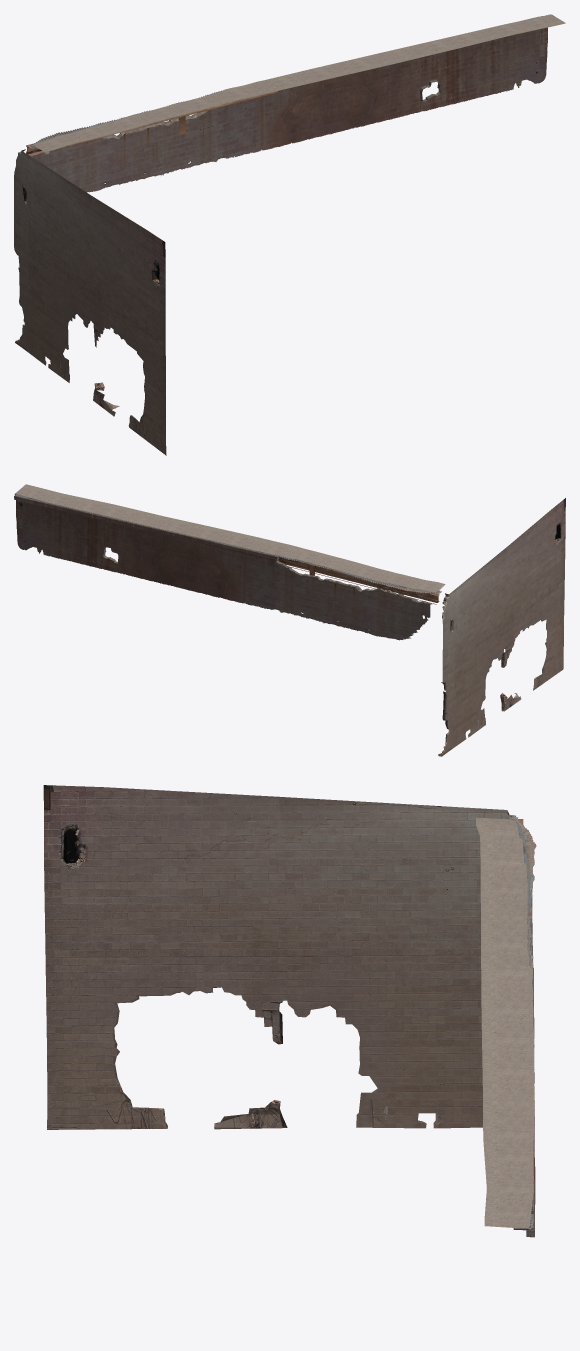
File: MOD_BigWall_Ext_High.fbx
3 views of the same model, one above another, from view 1: azimuth 30°, elevation 25°; view 2: azimuth 150°, elevation 25°; view 3: azimuth 270°, elevation 25° (orthographic). The views are drawn at different scales.
Parts seen in each view (by area): view 1: MOD_BigWall_Ext_High; view 2: MOD_BigWall_Ext_High; view 3: MOD_BigWall_Ext_High.
Part boxes in pixels (x1,y1,x2,y2): MOD_BigWall_Ext_High: (14,14,565,455); MOD_BigWall_Ext_High: (14,484,565,756); MOD_BigWall_Ext_High: (43,785,536,1237).
Size of the model in its own units: 2391 by 912 by 1186.
Materials: 2 (2 with a texture image).
